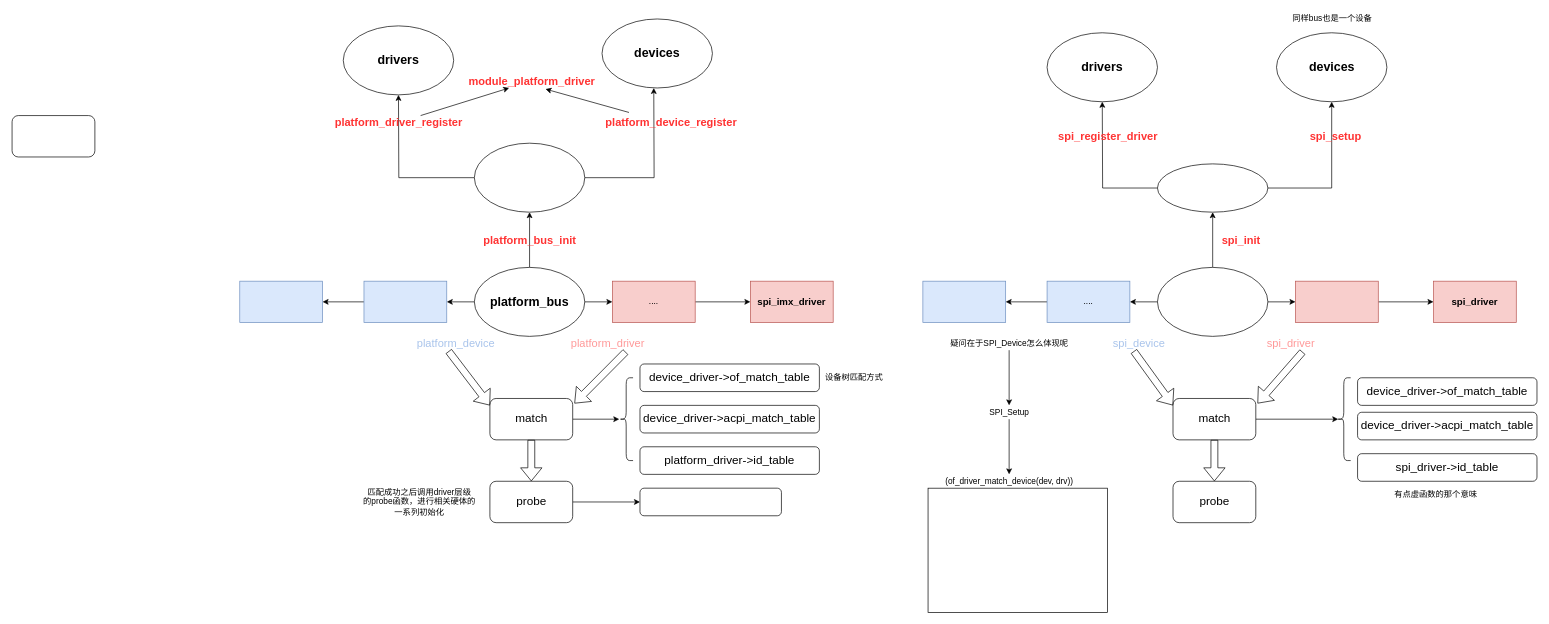
The diagram is 1549 pixels wide and 624 high, and some of its shapes have lost their labels. Here are the shapes that lost their labels. From the top down, the box of each, then its label:
(11, 115, 95, 157): 添加用于测试
(474, 142, 585, 212): /sys/bus/platform
(1157, 163, 1268, 212): /sys/bus/spi/
(363, 280, 447, 323): 设备树节点 ecspi3: ecspi@2010000
(1157, 267, 1268, 336): spi_bus
(1295, 280, 1378, 323): dummy_driver
(639, 487, 781, 516): spi-imx-probe
(927, 487, 1107, 612): device and device_driver的匹配 谁会是dev呢，感觉这个有些疑问，SPI_driver是程序驱动开发者编写的。注册到bus上面的。
